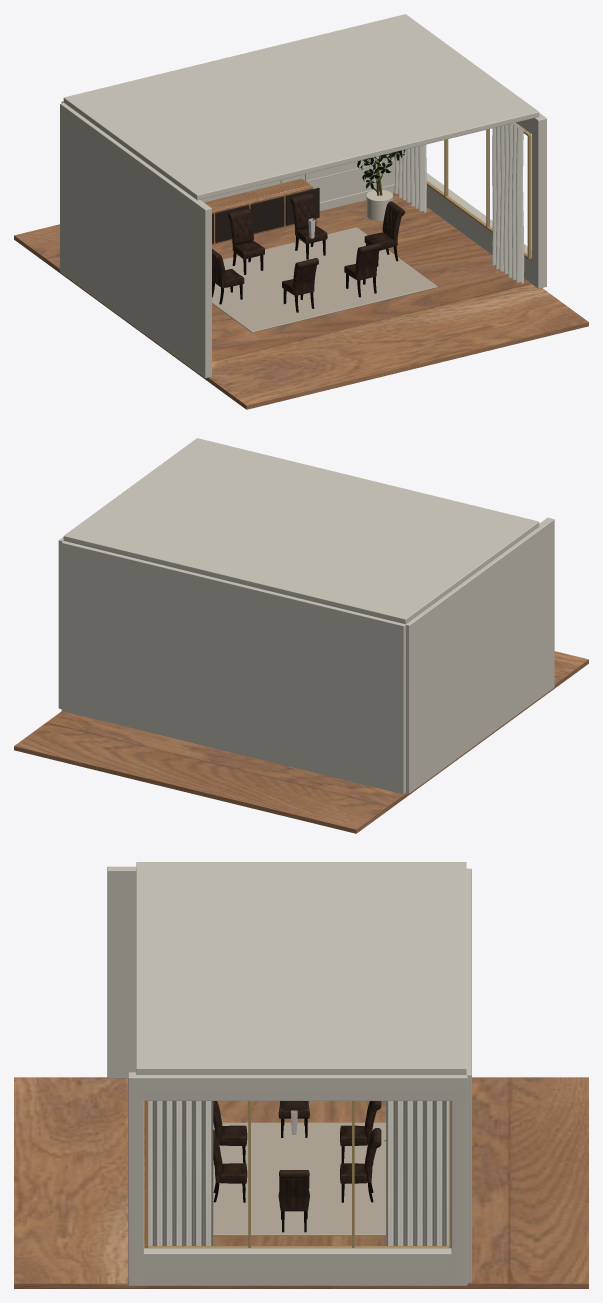
The model's file is dining-interior.glb.
3 views of the same model, one above another, from view 1: azimuth 30°, elevation 25°; view 2: azimuth 150°, elevation 25°; view 3: azimuth 270°, elevation 25° (orthographic). The views are drawn at different scales.
Parts seen in each view (by area): view 1: Ceiling, Solid oak floor, Left return, Woven area rug, Pleated curtain, Back plaster wall, Window wall pier, Window wall sill, Pleated curtain.001, Oak credenza, dining_chair_02, dining_chair_02.002 (+10 smaller); view 2: Back plaster wall, Ceiling, Left return, Solid oak floor, Window wall pier.001; view 3: Ceiling, Solid oak floor, Woven area rug, Window wall sill, Pleated curtain, Pleated curtain.001, Window wall lintel, Left return, Window wall pier.001, Window wall pier, Back plaster wall, dining_chair_02.005 (+7 smaller).
Boxes of the visible parts, bbox=[...] form: Ceiling: bbox=[63, 14, 539, 200]; Solid oak floor: bbox=[14, 193, 588, 409]; Left return: bbox=[60, 103, 211, 378]; Woven area rug: bbox=[212, 227, 437, 332]; Pleated curtain: bbox=[492, 123, 524, 283]; Back plaster wall: bbox=[61, 101, 395, 202]; Window wall pier: bbox=[532, 114, 546, 288]; Window wall sill: bbox=[426, 173, 534, 283]; Pleated curtain.001: bbox=[394, 144, 426, 212]; Oak credenza: bbox=[204, 178, 313, 244]; dining_chair_02: bbox=[228, 208, 264, 274]; dining_chair_02.002: bbox=[290, 193, 327, 259]; Back plaster wall: bbox=[61, 541, 405, 794]; Ceiling: bbox=[63, 438, 539, 624]; Left return: bbox=[405, 517, 554, 793]; Solid oak floor: bbox=[14, 651, 588, 833]; Window wall pier.001: bbox=[58, 537, 63, 709]; Ceiling: bbox=[136, 862, 466, 1074]; Solid oak floor: bbox=[14, 1077, 588, 1288]; Woven area rug: bbox=[213, 1122, 385, 1235]; Window wall sill: bbox=[137, 1248, 465, 1285]; Pleated curtain: bbox=[145, 1101, 213, 1247]; Pleated curtain.001: bbox=[386, 1101, 449, 1245]; Window wall lintel: bbox=[137, 1074, 465, 1100]; Left return: bbox=[107, 866, 136, 1078]; Window wall pier.001: bbox=[451, 1074, 467, 1285]; Window wall pier: bbox=[128, 1072, 143, 1285]; Back plaster wall: bbox=[466, 868, 471, 1282]; dining_chair_02.005: bbox=[278, 1170, 309, 1232].
Size of the model in its own units: 6.96 by 3.39 by 8.
Materials: 18 (10 with a texture image).
